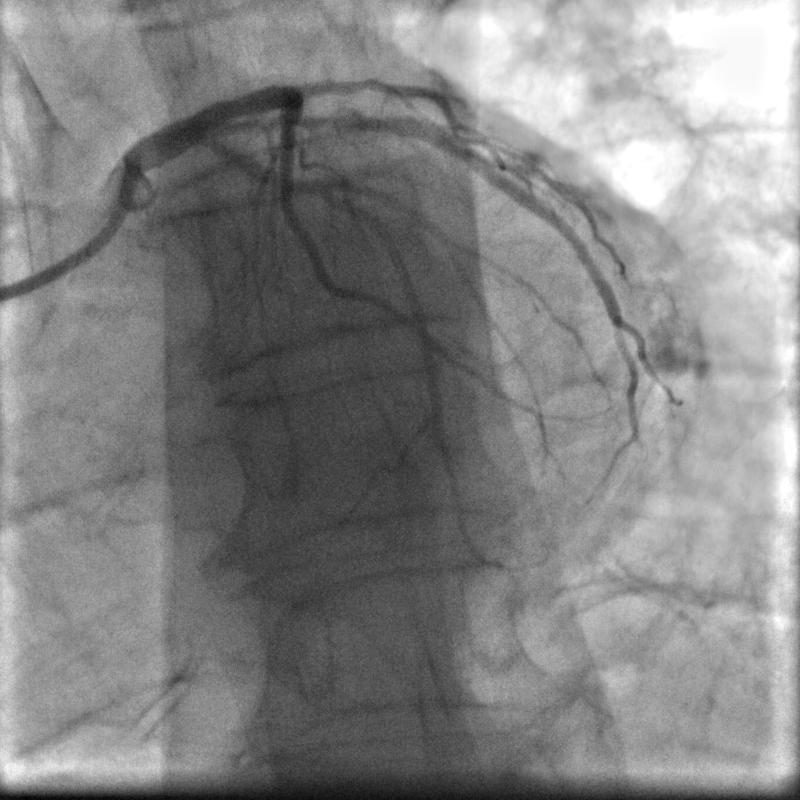Stenosis: (275, 119, 302, 168)
